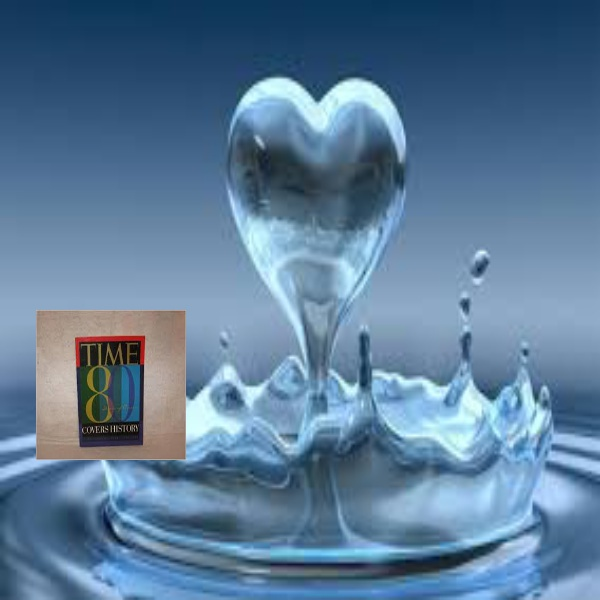time_cover: (65, 332, 146, 446)
